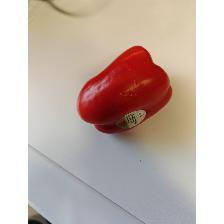Paprika: (76, 45, 173, 135)
